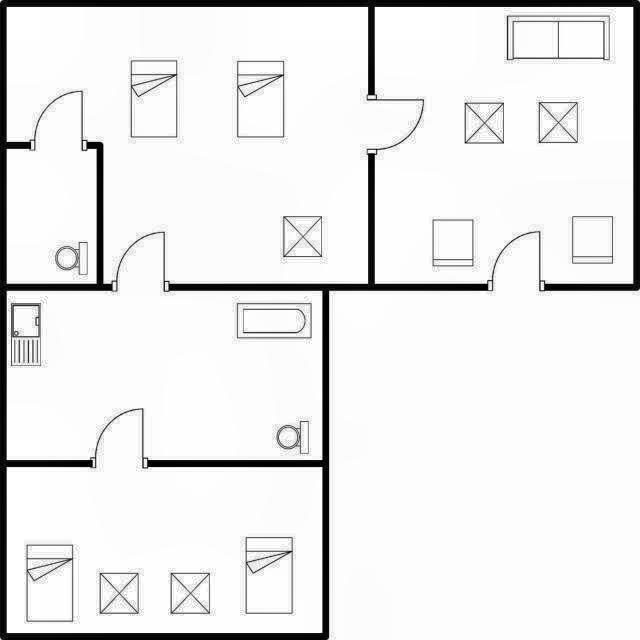room: (6, 6, 368, 284), (375, 6, 633, 283), (6, 291, 323, 459), (6, 466, 322, 632), (6, 149, 97, 284)
